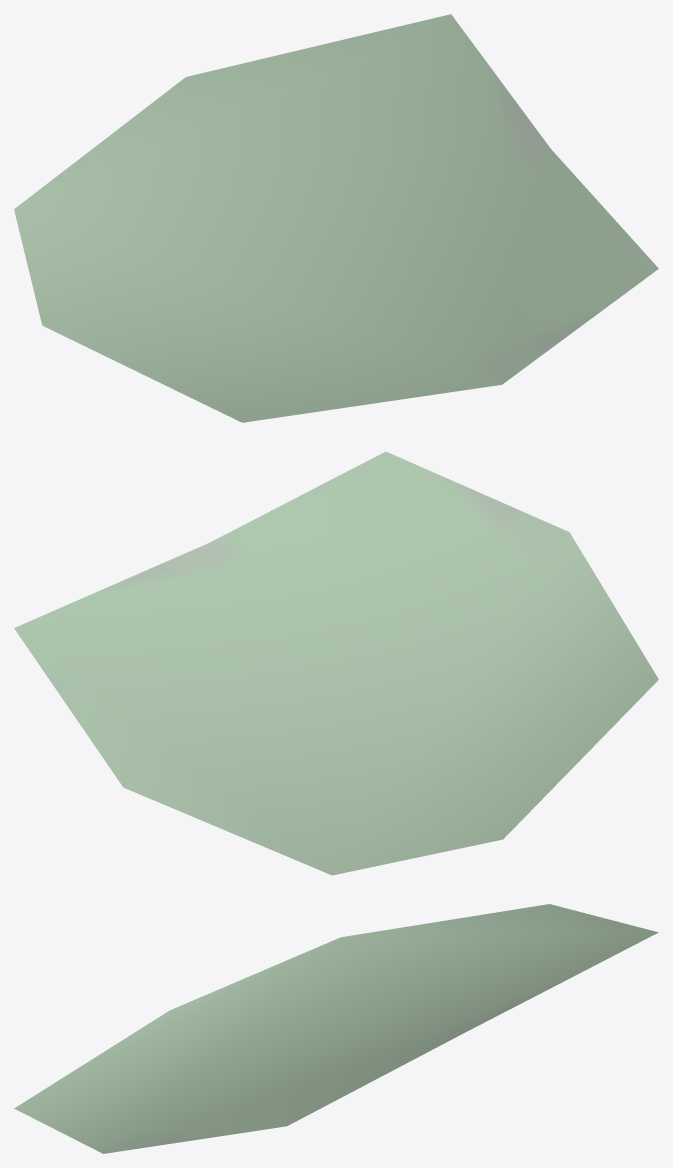
Rendered from TROLLHOLE02_HOLECAP83.fbx.
3 renders of one model, top to bottom at view 1: azimuth 30°, elevation 25°; view 2: azimuth 150°, elevation 25°; view 3: azimuth 330°, elevation 25°, orthographic. The views are drawn at different scales.
Visible parts, largest first — view 1: TROLLHOLE02_HOLECAP83; view 2: TROLLHOLE02_HOLECAP83; view 3: TROLLHOLE02_HOLECAP83.
Part boxes in pixels (x1,y1,x2,y2): TROLLHOLE02_HOLECAP83: (14,14,658,422); TROLLHOLE02_HOLECAP83: (14,451,658,875); TROLLHOLE02_HOLECAP83: (14,904,658,1153).
Bounding box in the file's own units: 10831 × 3441 × 15970.
1 material, 1 textured.
